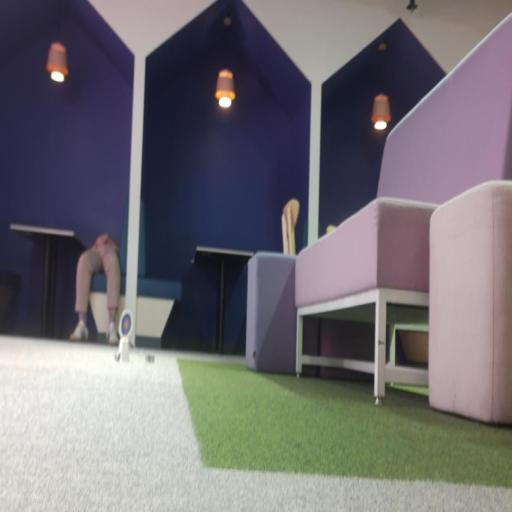target: (118, 309, 133, 340)
